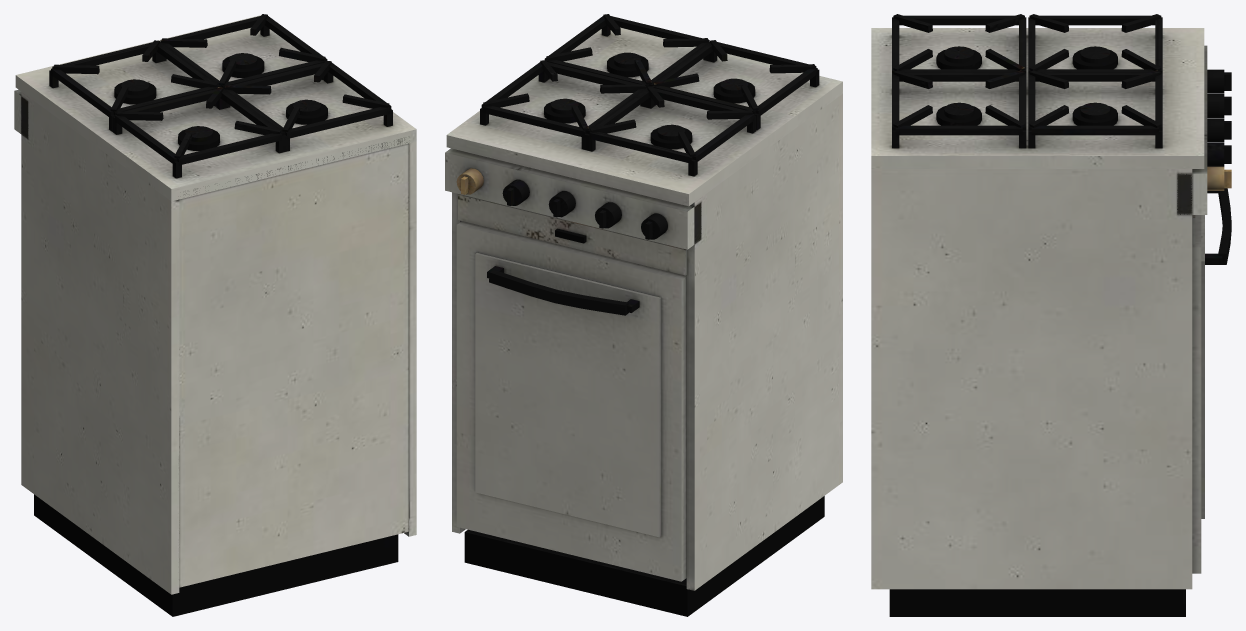
Rendered from stove_gas_web.glb.
The picture shows the model from 3 angles, left to right: view 1: azimuth 30°, elevation 25°; view 2: azimuth 150°, elevation 25°; view 3: azimuth 270°, elevation 25°; orthographic projection. The views are drawn at different scales.
Visible parts, largest first — view 1: StoveGas_Body; view 2: StoveGas_Body, Oven_Door_Mesh, Knob_2_Mesh, Knob_5_Mesh, Knob_1_Mesh, Knob_3_Mesh, Knob_4_Mesh; view 3: StoveGas_Body, Oven_Door_Mesh, Knob_5_Mesh, Knob_1_Mesh, Knob_3_Mesh, Knob_4_Mesh, Knob_2_Mesh.
Part boxes in pixels (left/top/right/bottom): StoveGas_Body: left=14, top=14, right=416, bottom=616; StoveGas_Body: left=445, top=14, right=842, bottom=616; Oven_Door_Mesh: left=456, top=221, right=686, bottom=581; Knob_2_Mesh: left=595, top=202, right=621, bottom=228; Knob_5_Mesh: left=456, top=168, right=483, bottom=194; Knob_1_Mesh: left=641, top=213, right=667, bottom=239; Knob_3_Mesh: left=548, top=191, right=575, bottom=217; Knob_4_Mesh: left=502, top=179, right=529, bottom=205; StoveGas_Body: left=871, top=14, right=1207, bottom=616; Oven_Door_Mesh: left=1192, top=188, right=1231, bottom=573; Knob_5_Mesh: left=1207, top=166, right=1231, bottom=190; Knob_1_Mesh: left=1207, top=69, right=1231, bottom=93; Knob_3_Mesh: left=1207, top=118, right=1231, bottom=142; Knob_4_Mesh: left=1207, top=142, right=1231, bottom=166; Knob_2_Mesh: left=1207, top=94, right=1231, bottom=117.
Bounding box in the file's own units: 0.5 × 0.898 × 0.595.
Materials: 1 (1 with a texture image).
